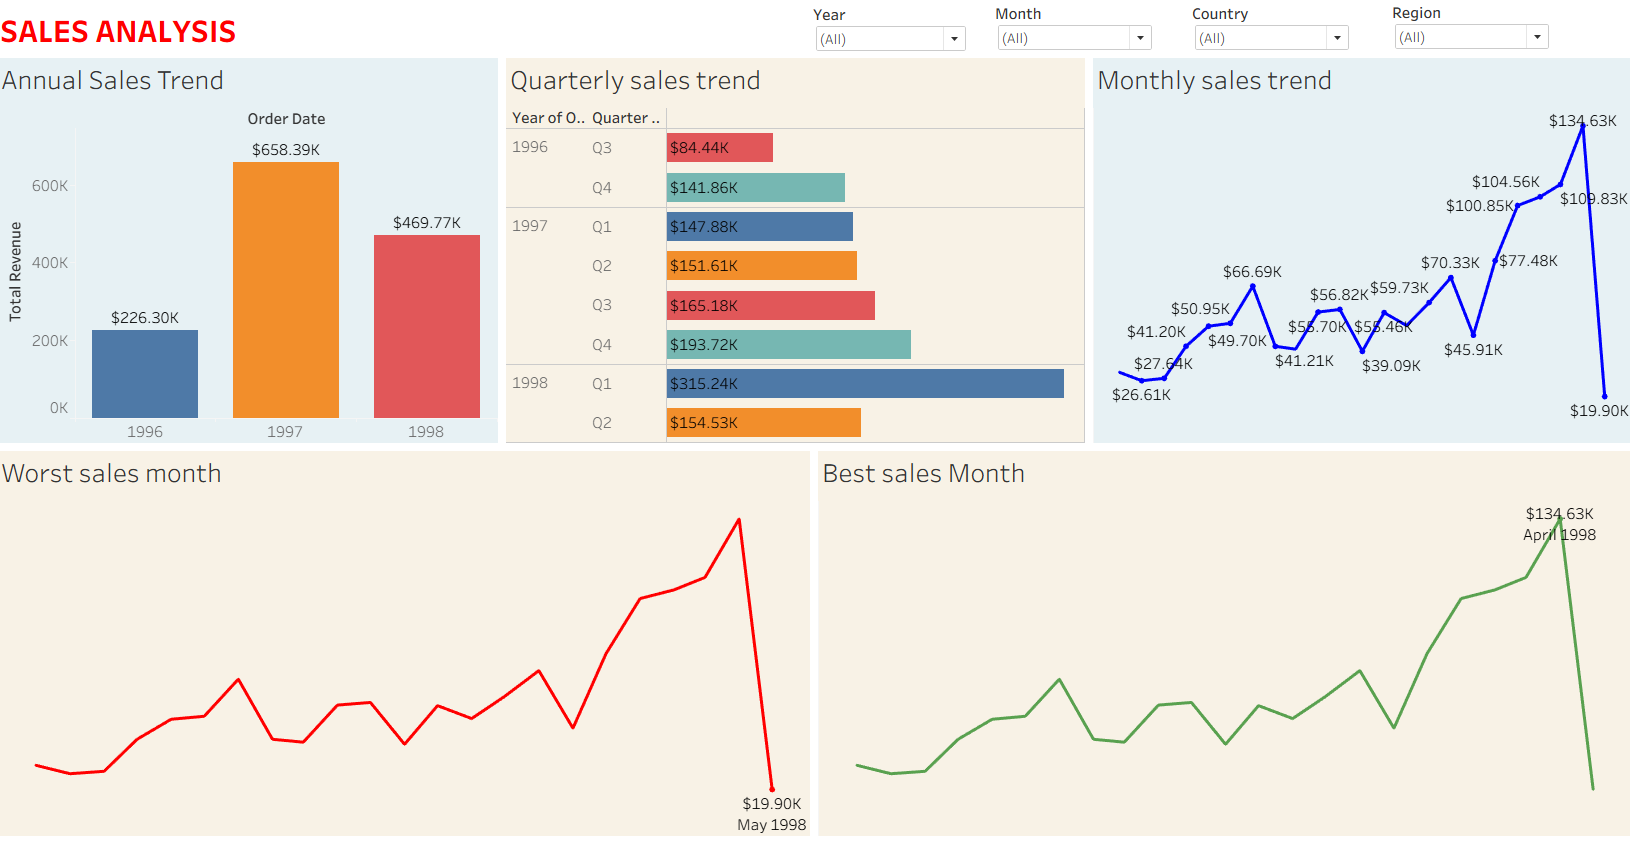

What the dashboard file says about the page in this screenshot:
{"tool":"tableau","page":{"name":"Sales Analysis","canvas":[1000,1000],"units":"permille","ordinal":4},"visuals":[{"type":"filter","title":"Annual Sales Trend","param":"[federated.0fuxvor0l2khf1164kcrc0bxxkrn].[none:ship_region:nk]","box":[849.1,5.9,96.6,55.2]},{"type":"filter","title":"Annual Sales Trend","param":"[federated.0fuxvor0l2khf1164kcrc0bxxkrn].[mn:order_date:ok]","box":[609.5,7,96.6,55.2]},{"type":"filter","title":"Annual Sales Trend","param":"[federated.0fuxvor0l2khf1164kcrc0bxxkrn].[none:ship_country:nk]","box":[728.4,7,96.6,56.4]},{"type":"filter","title":"Worst sales month","param":"[federated.0fuxvor0l2khf1164kcrc0bxxkrn].[yr:order_date:ok]","box":[499.7,8.2,94.2,55.2]},{"type":"title","box":[4.8,9.4,990.3,57.6]},{"type":"worksheet","title":"Annual Sales Trend","mark":"Bar","rows":["vtsum"],"cols":["order_date"],"box":[4.8,67,307.2,461.8]},{"type":"worksheet","title":"Quarterly sales trend","mark":"Bar","rows":["order_date","order_date"],"cols":["vtsum","vtsum"],"box":[312,67,354.2,461.8]},{"type":"worksheet","title":"Monthly sales trend","mark":"Line","rows":["vtsum"],"cols":["order_date"],"box":[666.2,67,328.9,461.8]},{"type":"worksheet","title":"Worst sales month","mark":"Line","rows":["vtsum"],"cols":["order_date"],"box":[4.8,528.8,495.2,461.8]},{"type":"worksheet","title":"Best sales Month","mark":"Line","rows":["vtsum"],"cols":["order_date"],"box":[500,528.8,495.2,461.8]}]}

Visuals, with their boxes on the dashboard's canvas, which has no fixed pixel size, in thousandths of its width and height (x1, y1, x2, y2). These are canvas units, not pixel positions in the 1641x846 screenshot, which may show the page scaled, cropped or inside an application window:
"Annual Sales Trend" filter: x1=849 y1=6 x2=946 y2=61
"Annual Sales Trend" filter: x1=610 y1=7 x2=706 y2=62
"Annual Sales Trend" filter: x1=728 y1=7 x2=825 y2=63
"Worst sales month" filter: x1=500 y1=8 x2=594 y2=63
title: x1=5 y1=9 x2=995 y2=67
"Annual Sales Trend" worksheet (Bar marks): x1=5 y1=67 x2=312 y2=529
"Quarterly sales trend" worksheet (Bar marks): x1=312 y1=67 x2=666 y2=529
"Monthly sales trend" worksheet (Line marks): x1=666 y1=67 x2=995 y2=529
"Worst sales month" worksheet (Line marks): x1=5 y1=529 x2=500 y2=991
"Best sales Month" worksheet (Line marks): x1=500 y1=529 x2=995 y2=991
